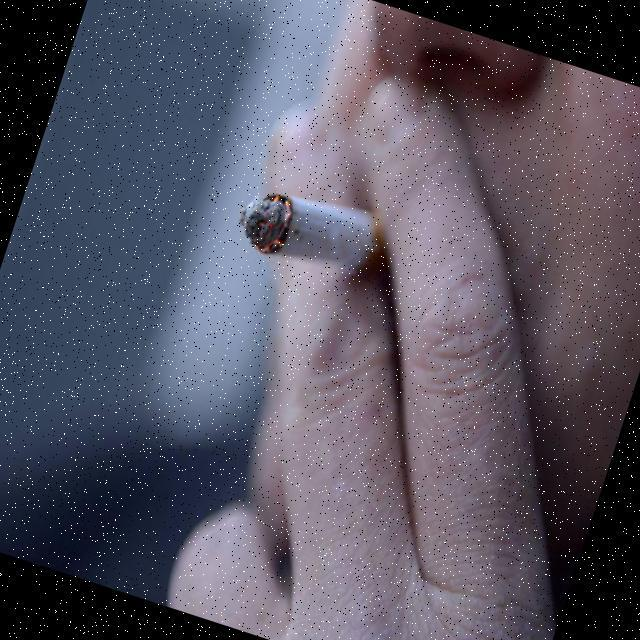cigarette: (226, 160, 402, 304)
